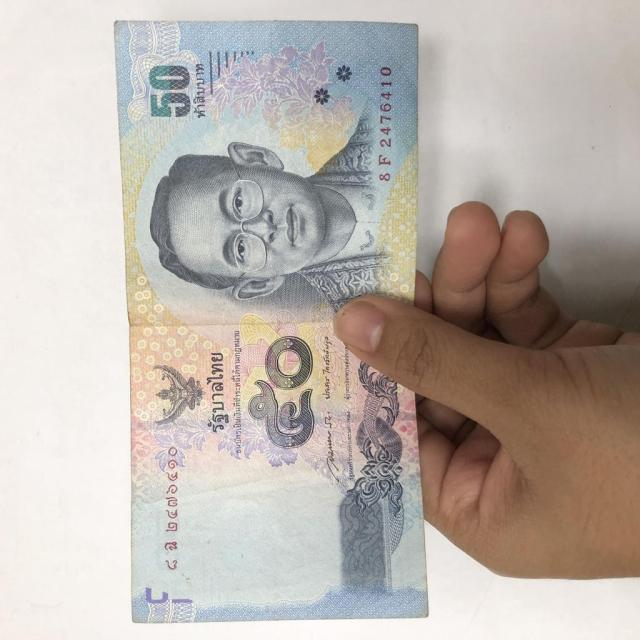THAI50: (114, 21, 428, 623)
